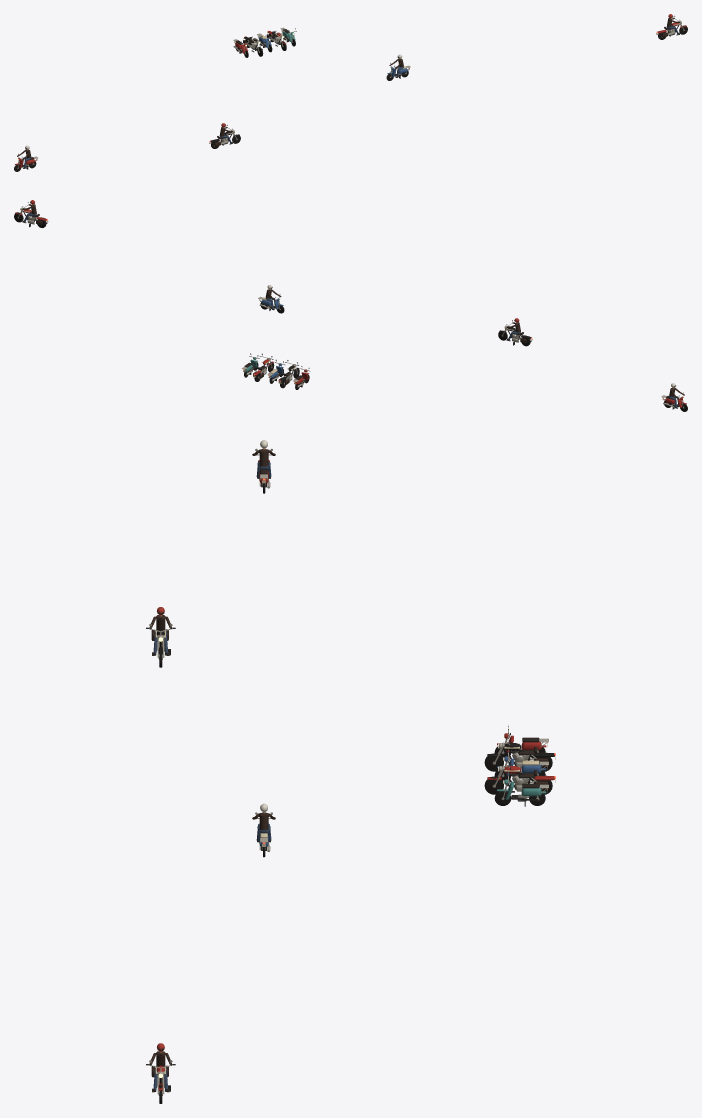
Rendered from motorbikes_scene.glb.
3 renders of one model, top to bottom at view 1: azimuth 30°, elevation 25°; view 2: azimuth 150°, elevation 25°; view 3: azimuth 270°, elevation 25°, orthographic. The views are drawn at different scales.
Bounding box in the file's own units: 52.17 × 1.83 × 14.3.
